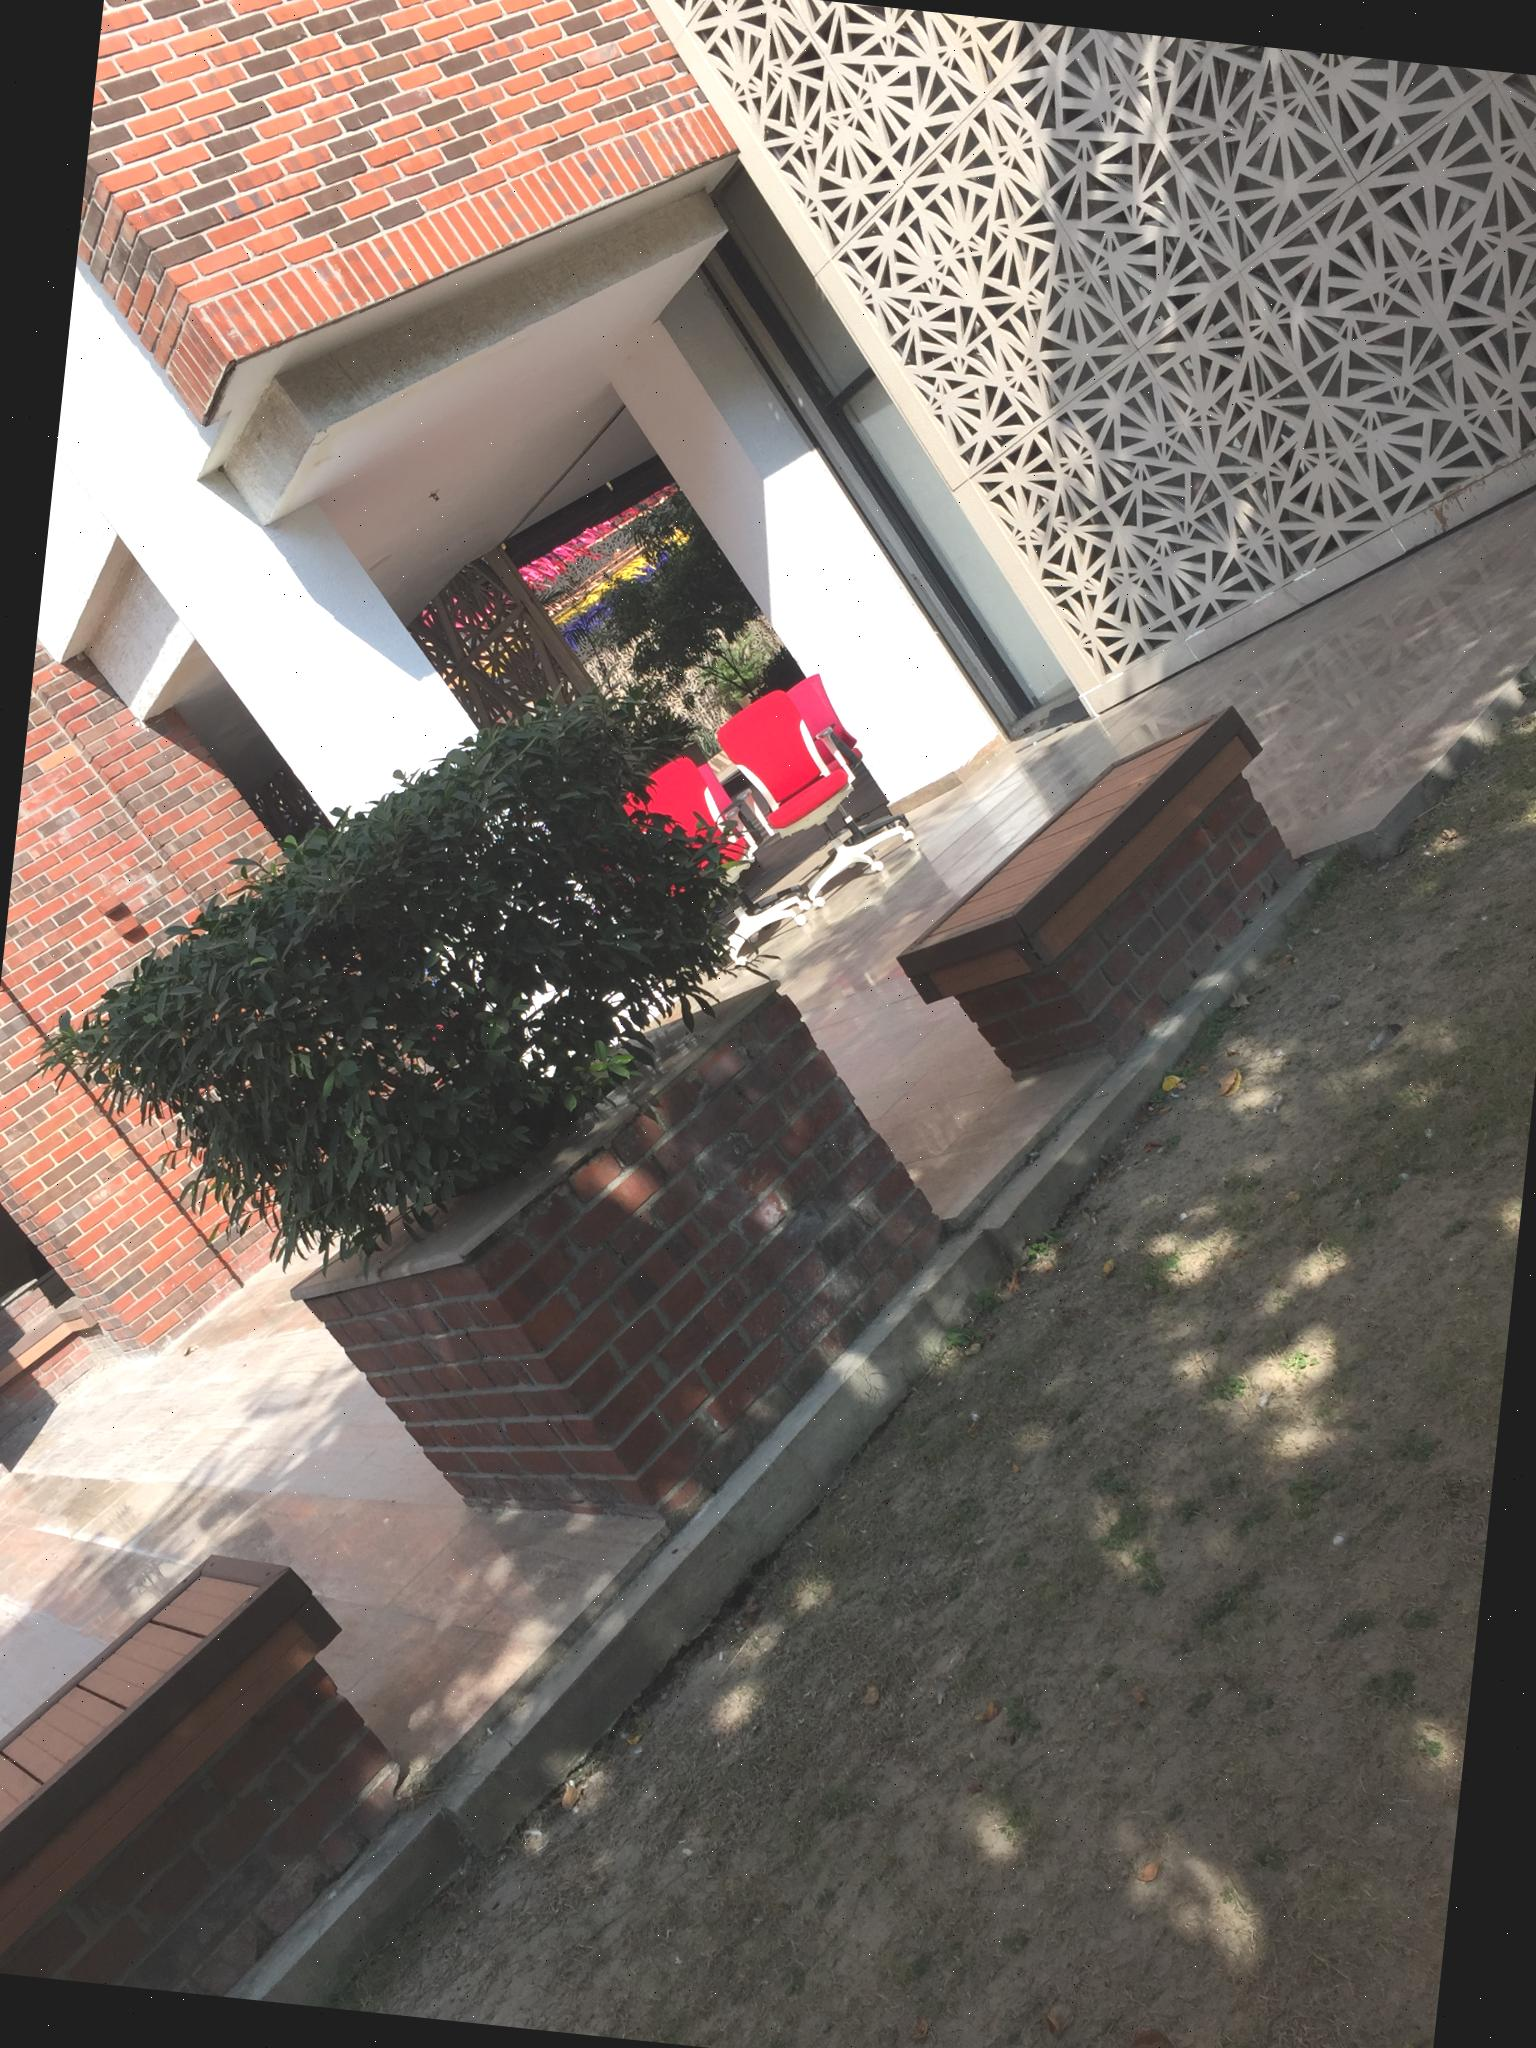chair: (703, 681, 863, 850), (613, 748, 765, 880)
